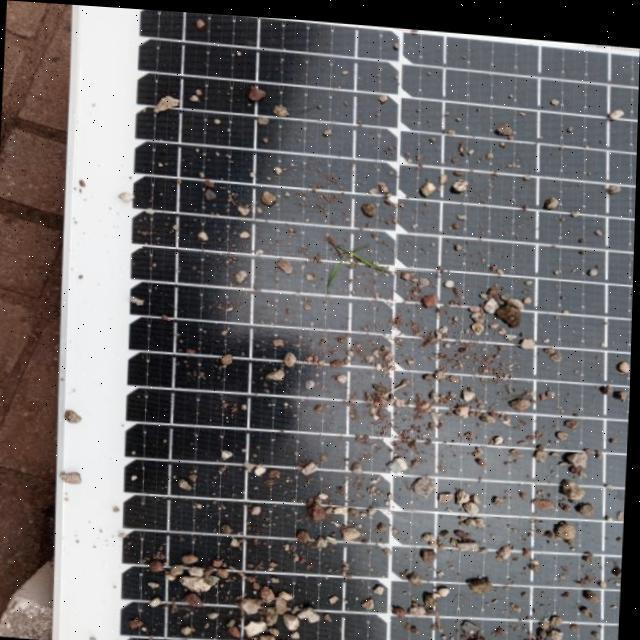Surface Contaminant: (74, 5, 640, 640)
